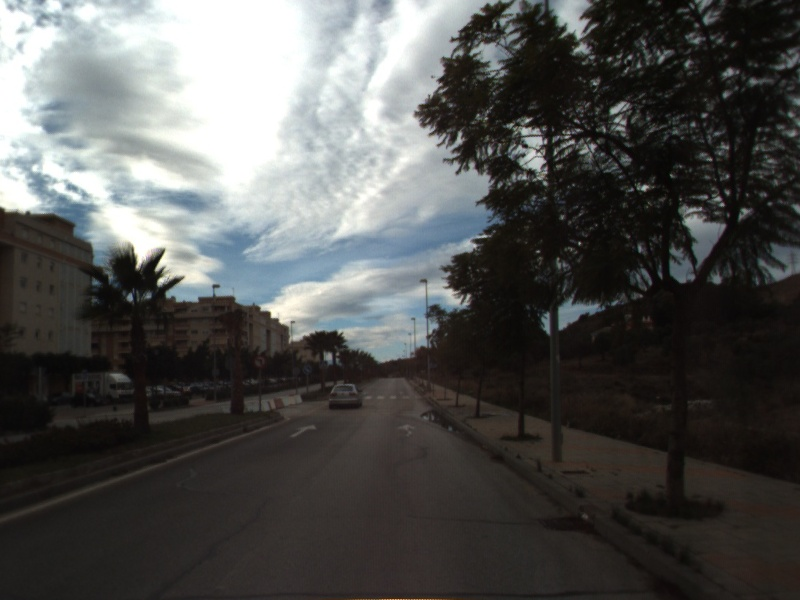STRAIGHT: (288, 422, 319, 439), (395, 421, 418, 440)
